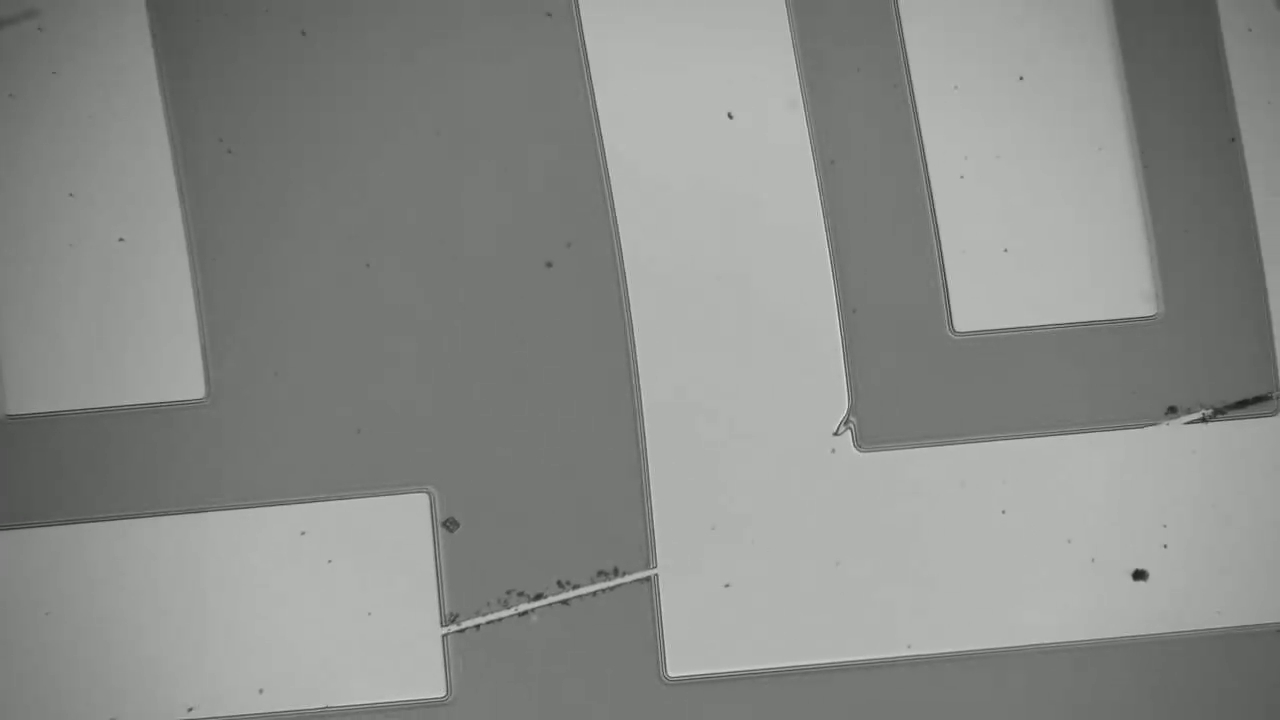scratch: (445, 568, 655, 628), (1159, 391, 1280, 421)
